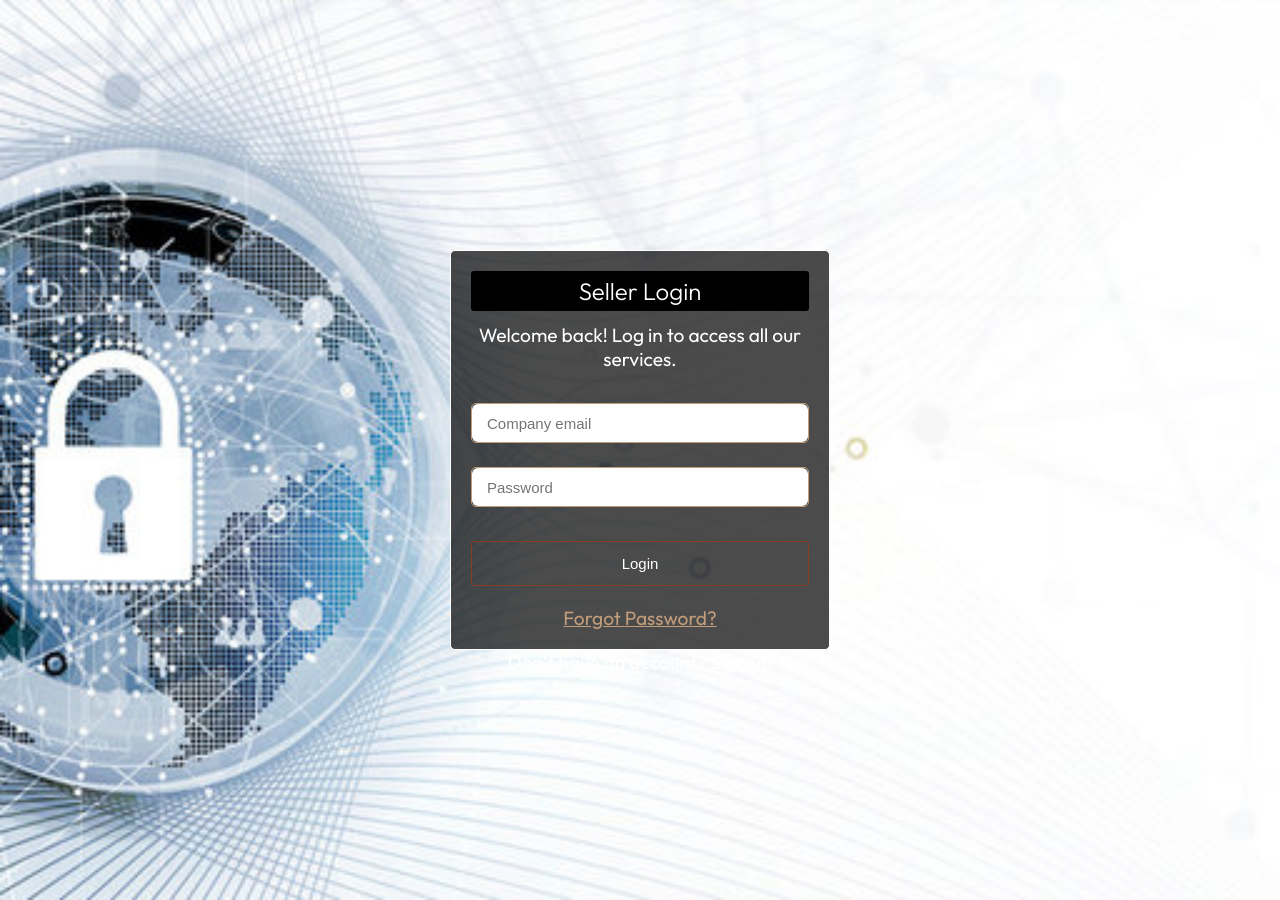
Test: Seller_login Component › should show validation errors for missing inputs
Click the button "Login".
click(640, 564)  # box [471,541,809,586]
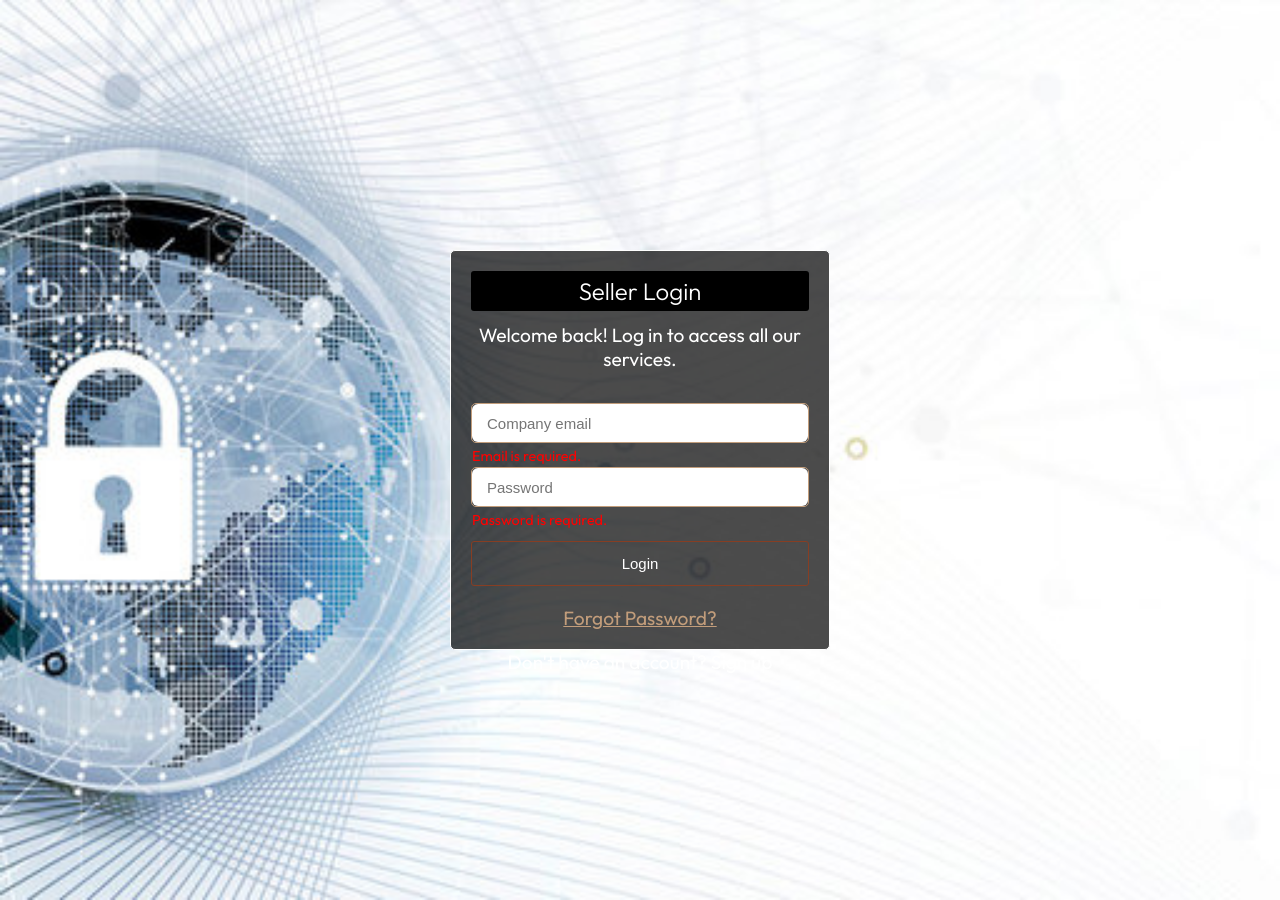
Check: the text "Email is required." is shown, box [472,447,581,465]
Check: the text "Password is required." is shown, box [472,511,607,529]
